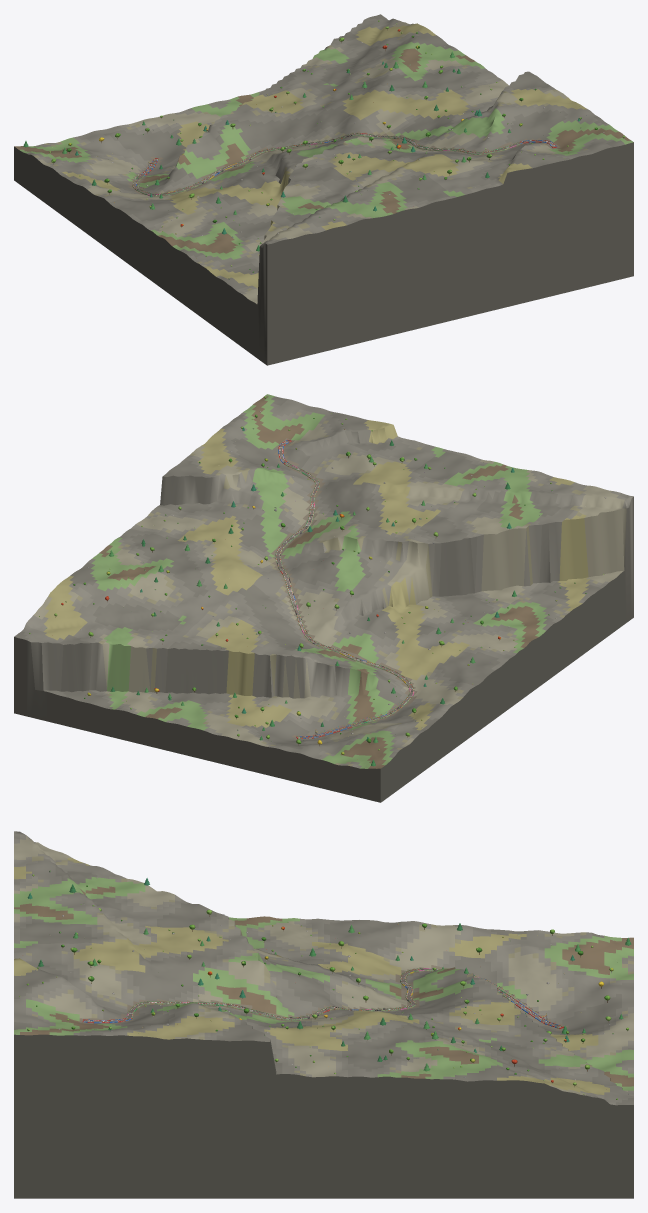
3 views of the same model, one above another, from view 1: azimuth 30°, elevation 25°; view 2: azimuth 150°, elevation 25°; view 3: azimuth 270°, elevation 25° (orthographic). The views are drawn at different scales.
Parts seen in each view (by area): view 1: grass, hay, pines, road, leafy trees; view 2: grass, hay, road, pines, leafy trees; view 3: grass, hay, pines, road, leafy trees.
Part boxes in pixels (bbox=[...]): grass: bbox=[14, 14, 633, 365]; hay: bbox=[132, 133, 556, 196]; pines: bbox=[23, 51, 580, 251]; road: bbox=[133, 133, 555, 195]; leafy trees: bbox=[51, 26, 625, 222]; grass: bbox=[14, 394, 633, 802]; hay: bbox=[275, 439, 414, 739]; road: bbox=[276, 440, 413, 738]; pines: bbox=[109, 427, 516, 766]; leafy trees: bbox=[54, 396, 483, 754]; grass: bbox=[14, 831, 633, 1198]; hay: bbox=[82, 968, 563, 1028]; pines: bbox=[27, 878, 631, 1071]; road: bbox=[83, 969, 561, 1027]; leafy trees: bbox=[27, 908, 628, 1085].
Size of the model in its own units: 522 by 186 by 624.
